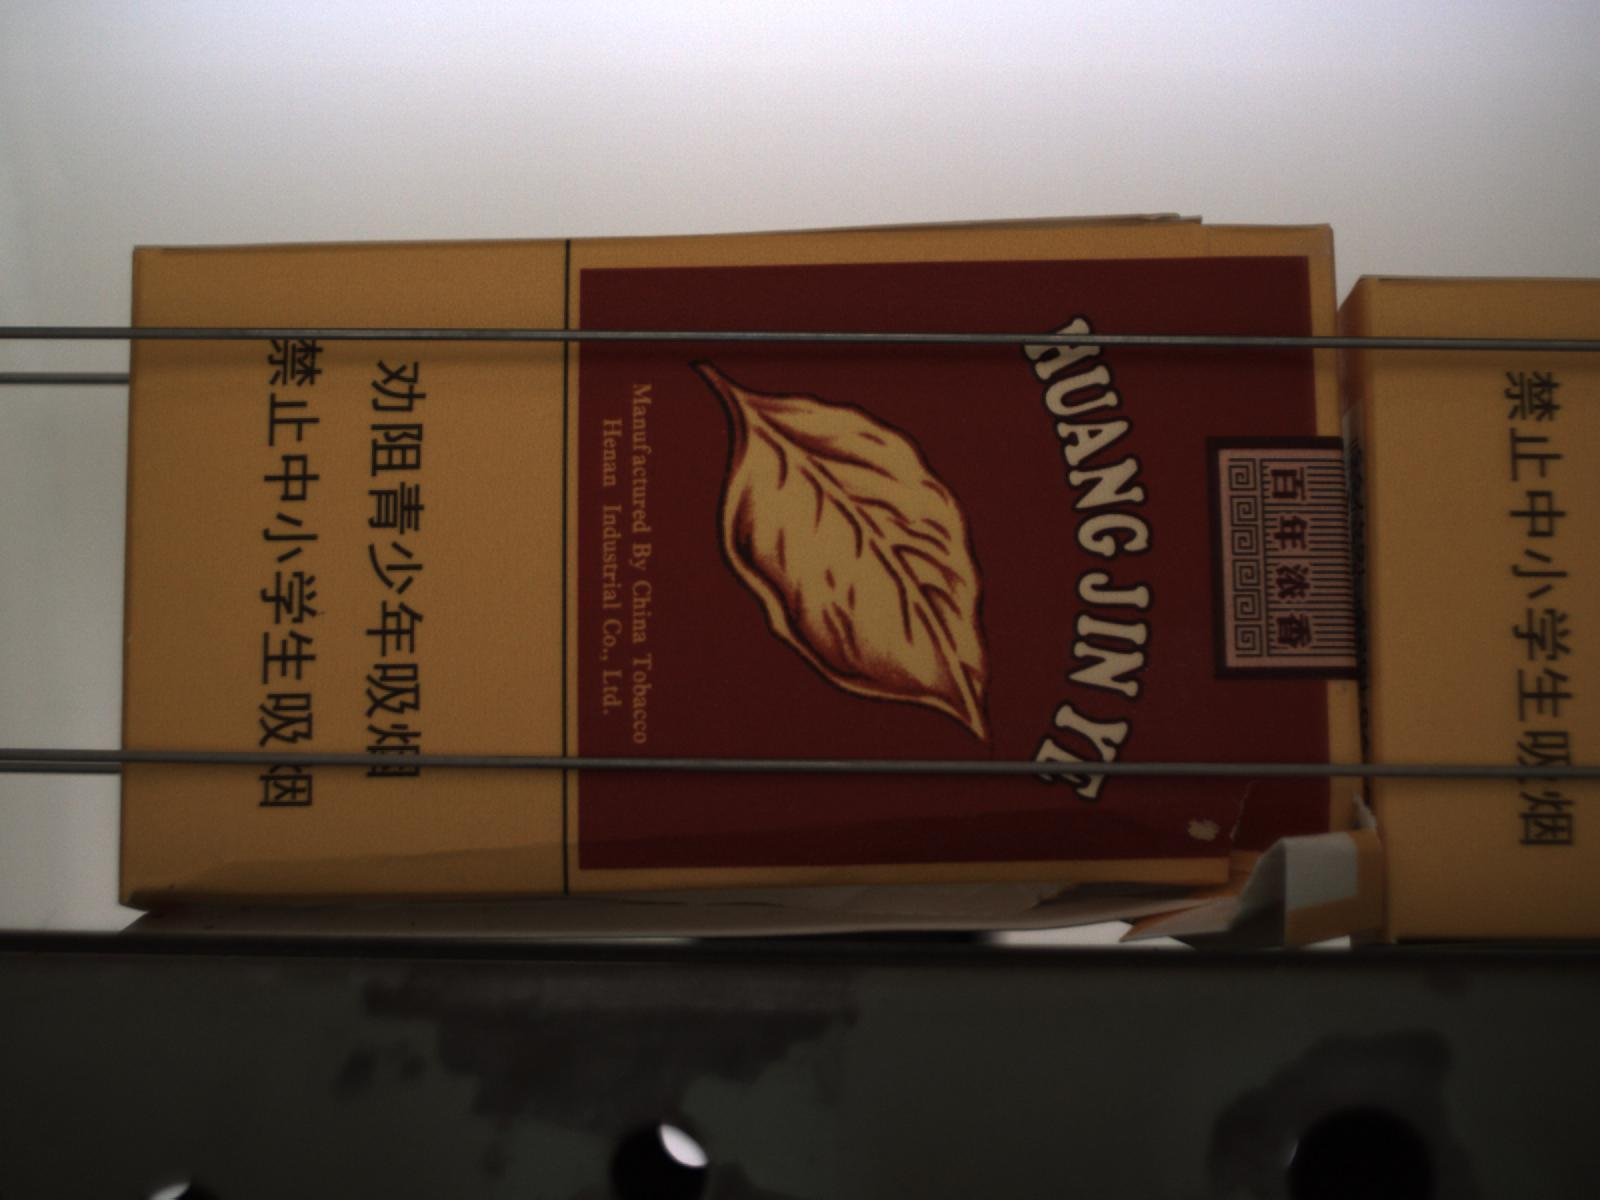bottomUpwarp_upper_1: (769, 211, 1209, 236)
boxDamage_back_heavy: (112, 788, 1403, 950)
frame: (1254, 819, 1386, 947)
